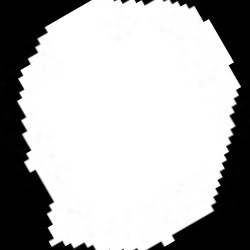spot: (17, 1, 241, 249)
